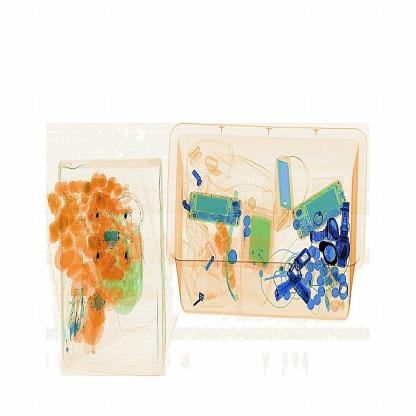pliers: (274, 152, 295, 231)
